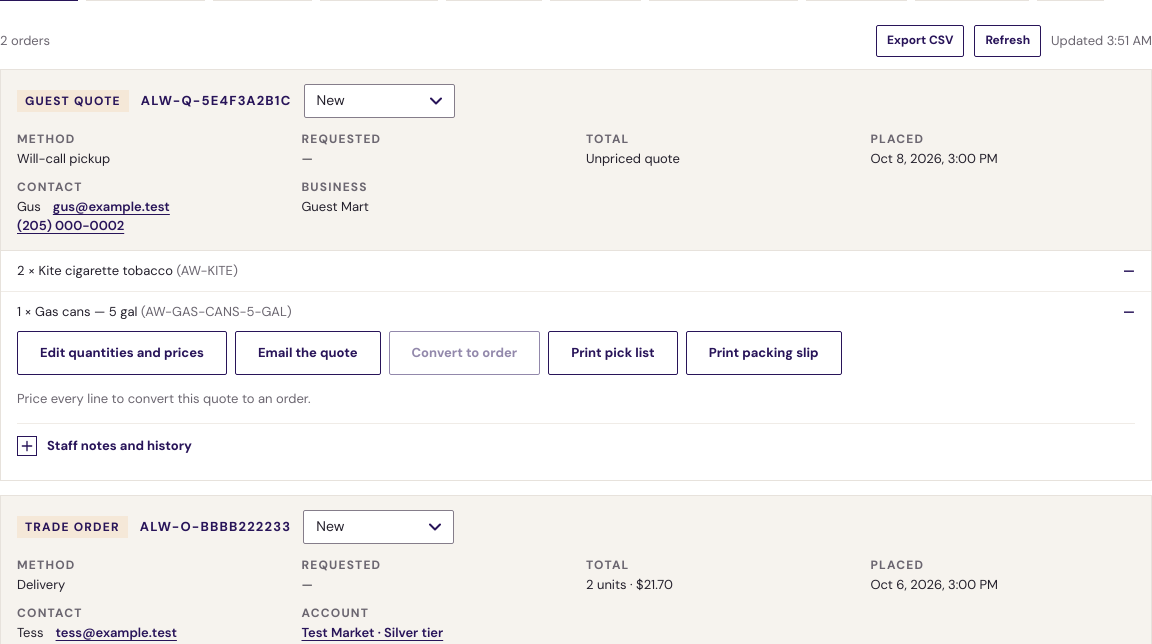
Scenario: the quote editor’s focus, and cards a save or a conversion moves (NEW-016) › gives the focus back to Save prices after a refusal
(page scrolled)
Click the button "Edit quantities and prices" at (122, 353), box x1=17 y1=331 x2=227 y2=375
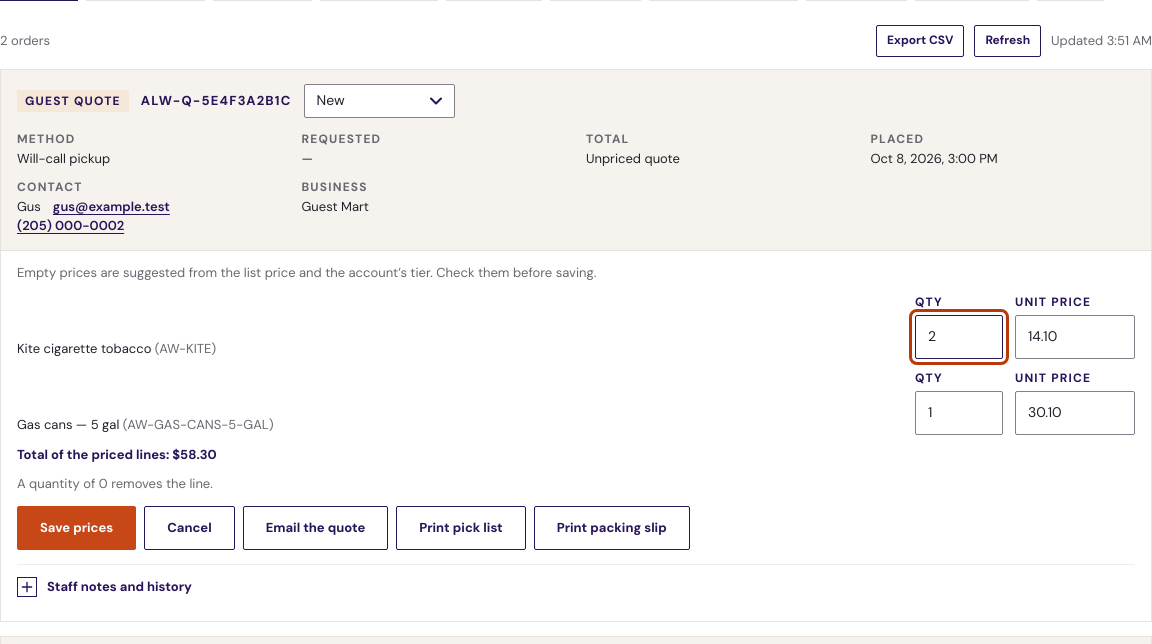
Click the button "Save prices" at (77, 528), box x1=17 y1=506 x2=136 y2=550
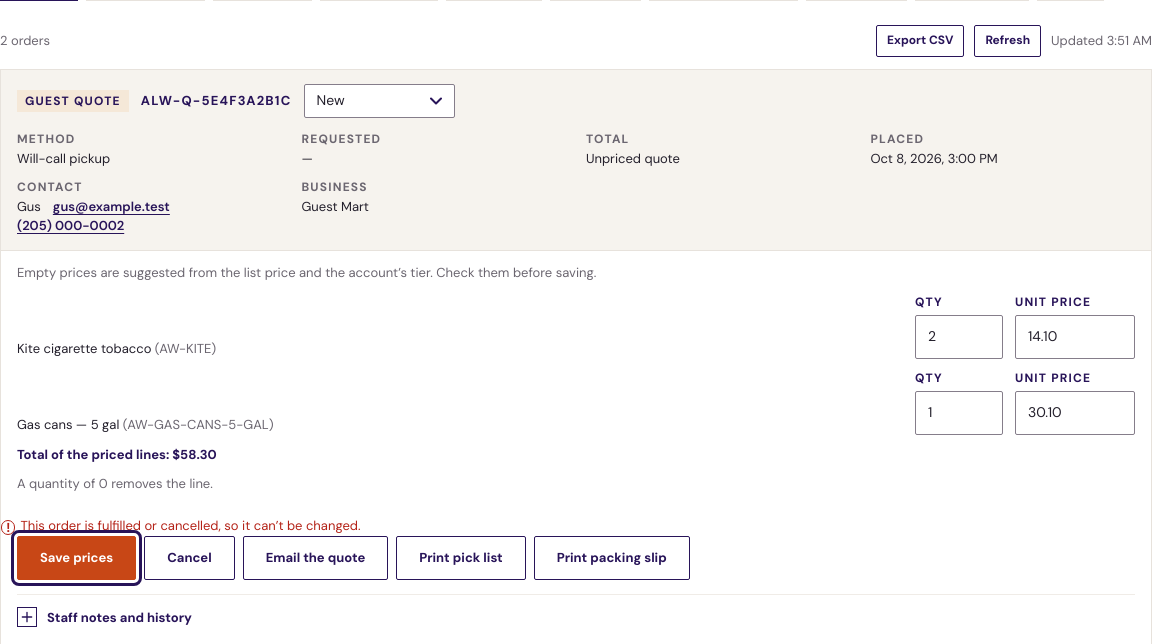
Expected: the message reads "This order is fulfilled or cancelled, so it can’t be changed.", x1=20 y1=517 x2=360 y2=534
